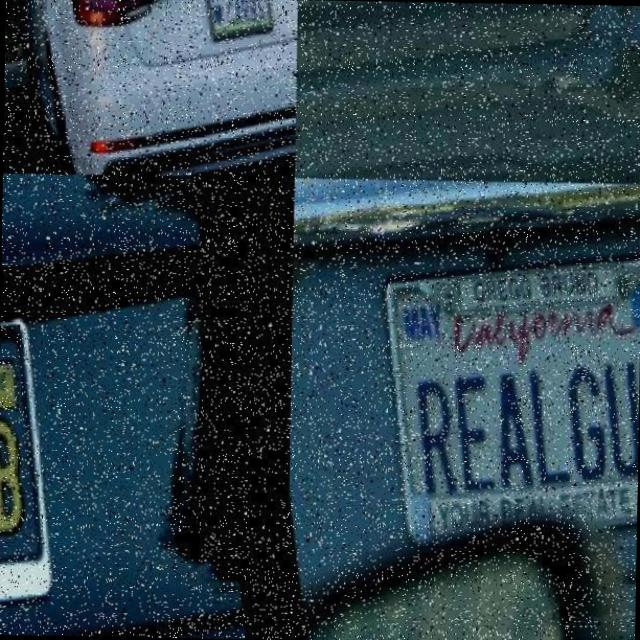LicensePlate: (372, 237, 640, 569), (0, 295, 138, 636), (294, 0, 409, 53), (202, 0, 274, 44)
